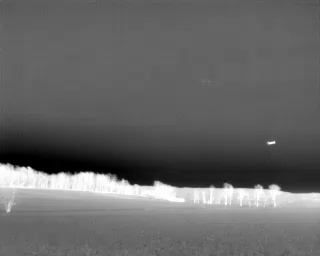DRONE: (263, 136, 280, 150)
